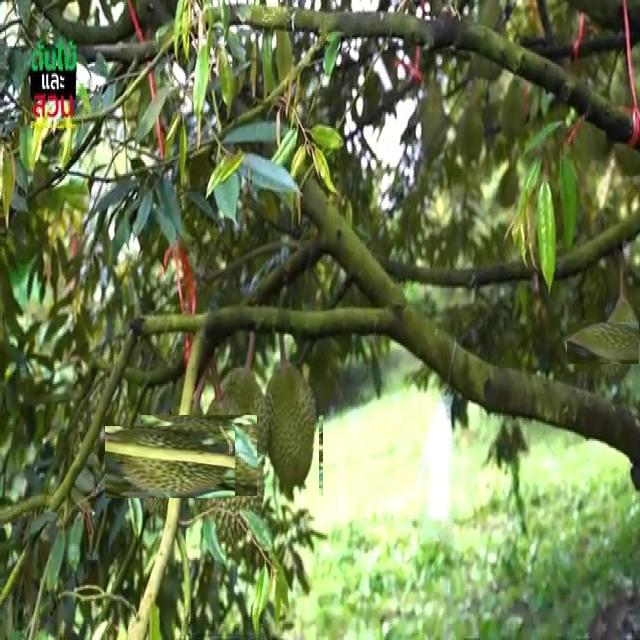durian: (166, 389, 298, 521), (120, 411, 221, 513), (257, 358, 319, 496), (581, 307, 640, 378), (418, 77, 449, 163)
